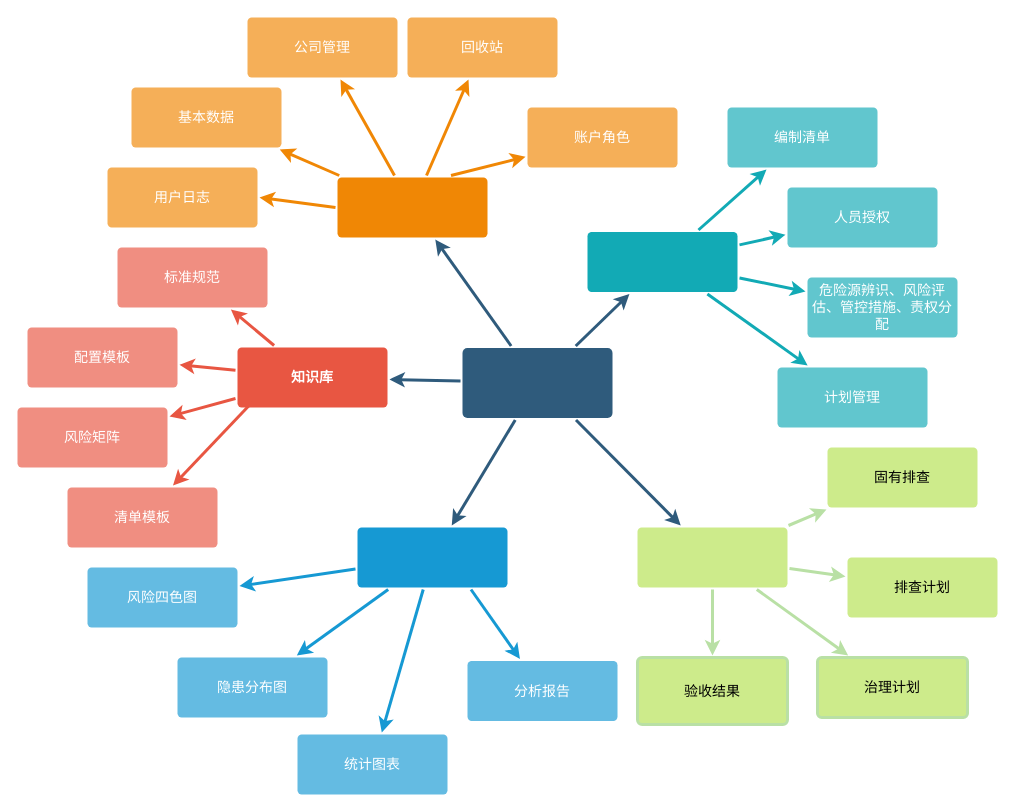
The diagram is 1014 pixels wide and 811 high, and some of its shapes have lost their labels. The shapes that lost their labels are listed below. From the top down, each one's box as (x1, y1, x2, y2) in pixels, then its label:
(337, 177, 487, 237): 工具管理
(587, 232, 737, 292): 风险分级管控
(462, 348, 612, 418): 双重预防工具
(357, 527, 507, 587): 监管看板
(637, 527, 787, 587): 隐患排查治理
